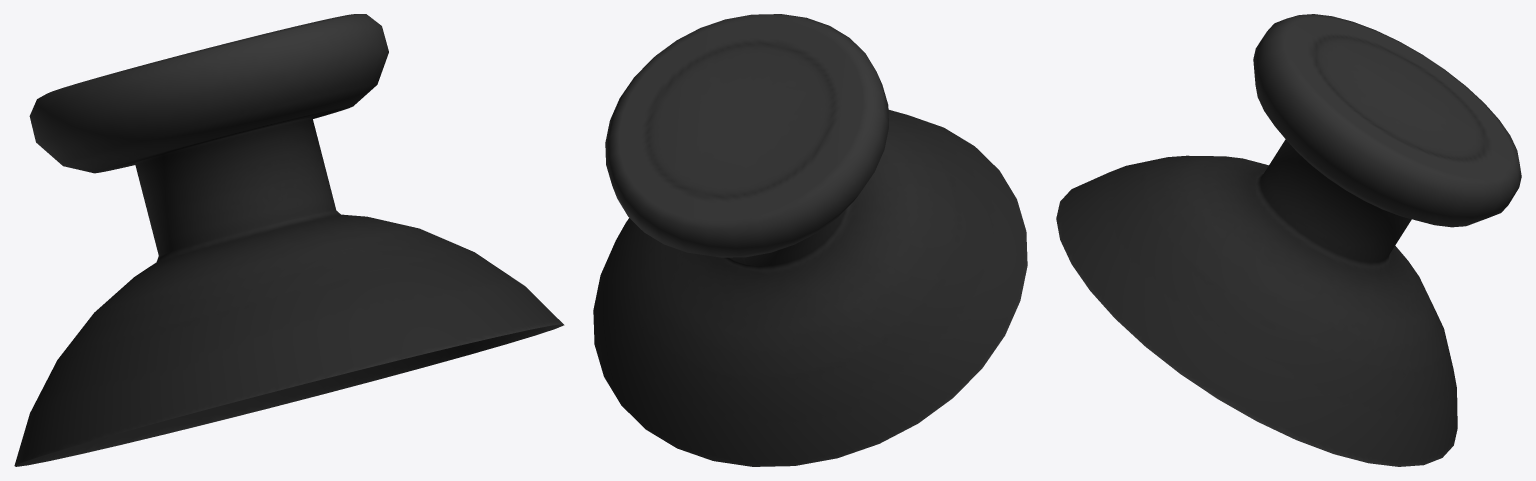
File: THUMBSTICK_PRESS.obj
The picture shows the model from 3 angles, left to right: view 1: azimuth 30°, elevation 25°; view 2: azimuth 150°, elevation 25°; view 3: azimuth 270°, elevation 25°; orthographic projection. The views are drawn at different scales.
Bounding box in the file's own units: 0.0217 × 0.0202 × 0.0218.
